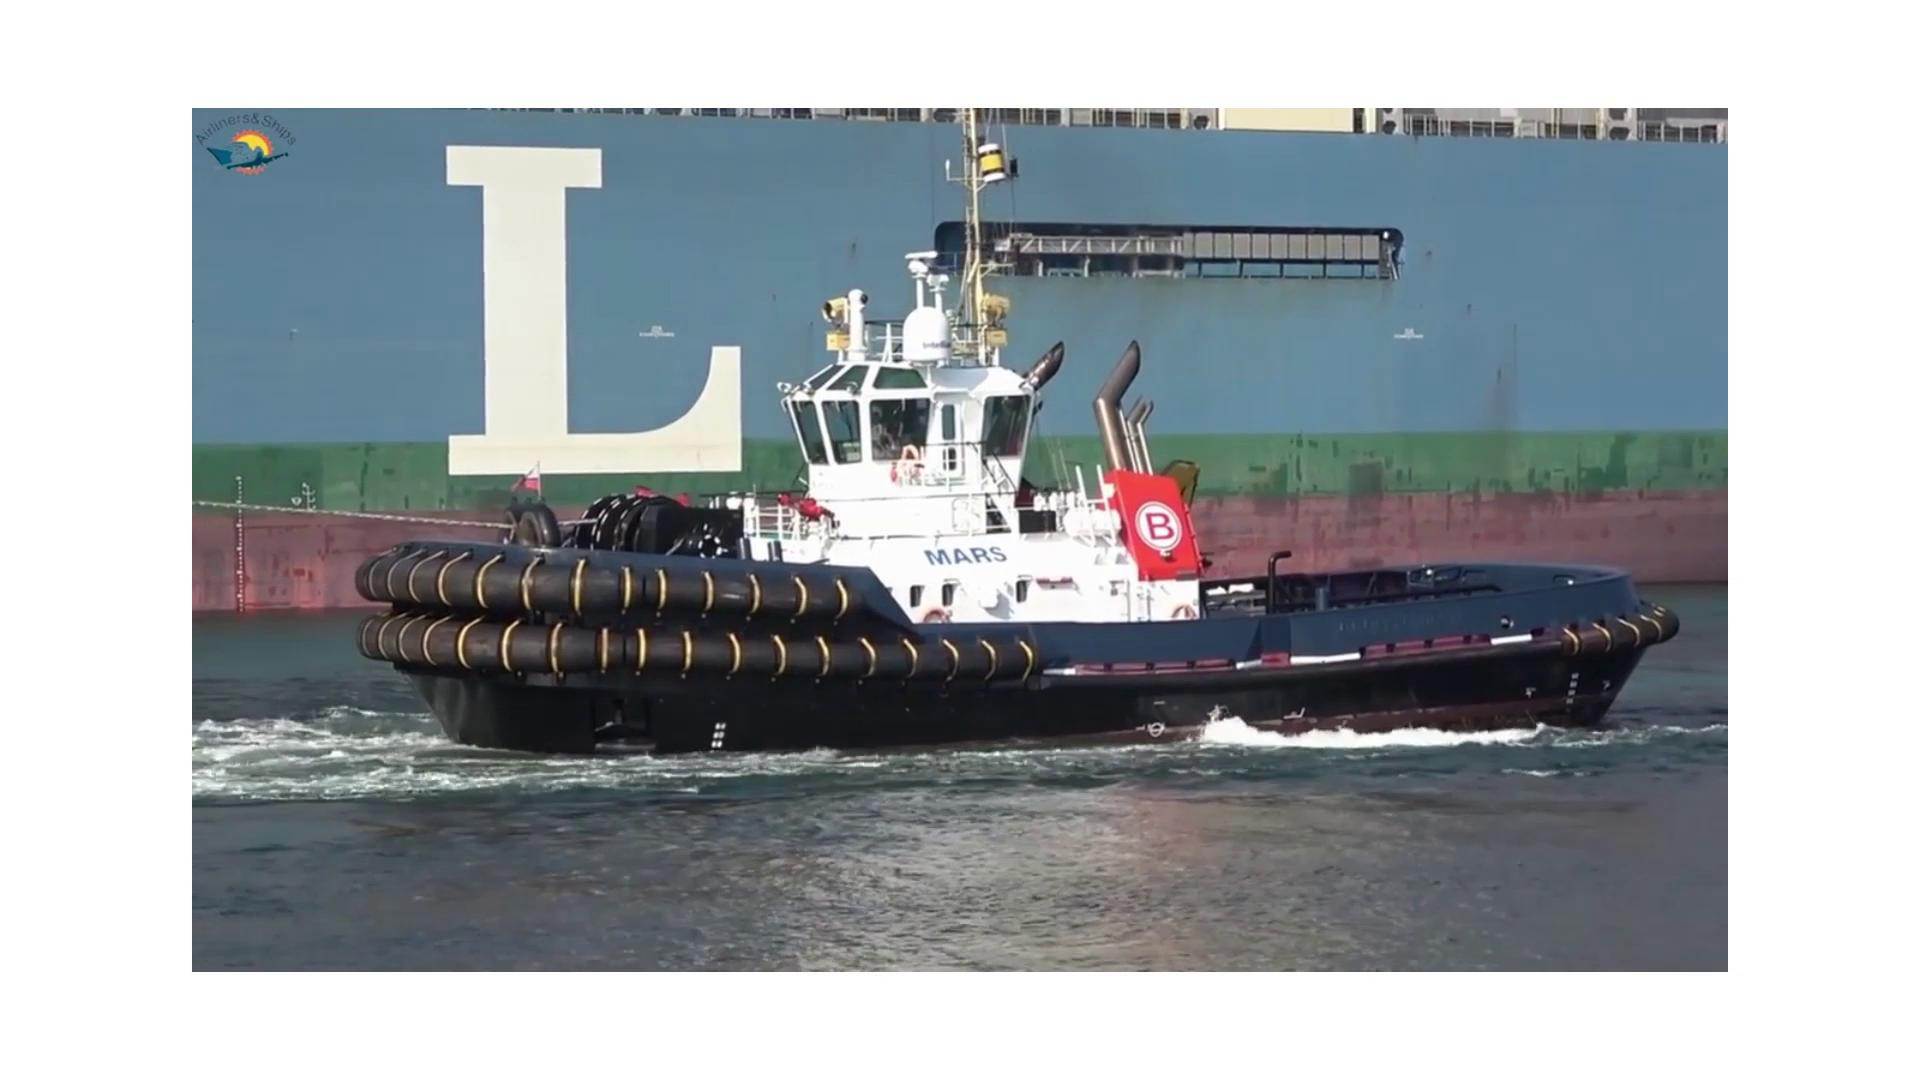OCR: (400, 138, 795, 505)
